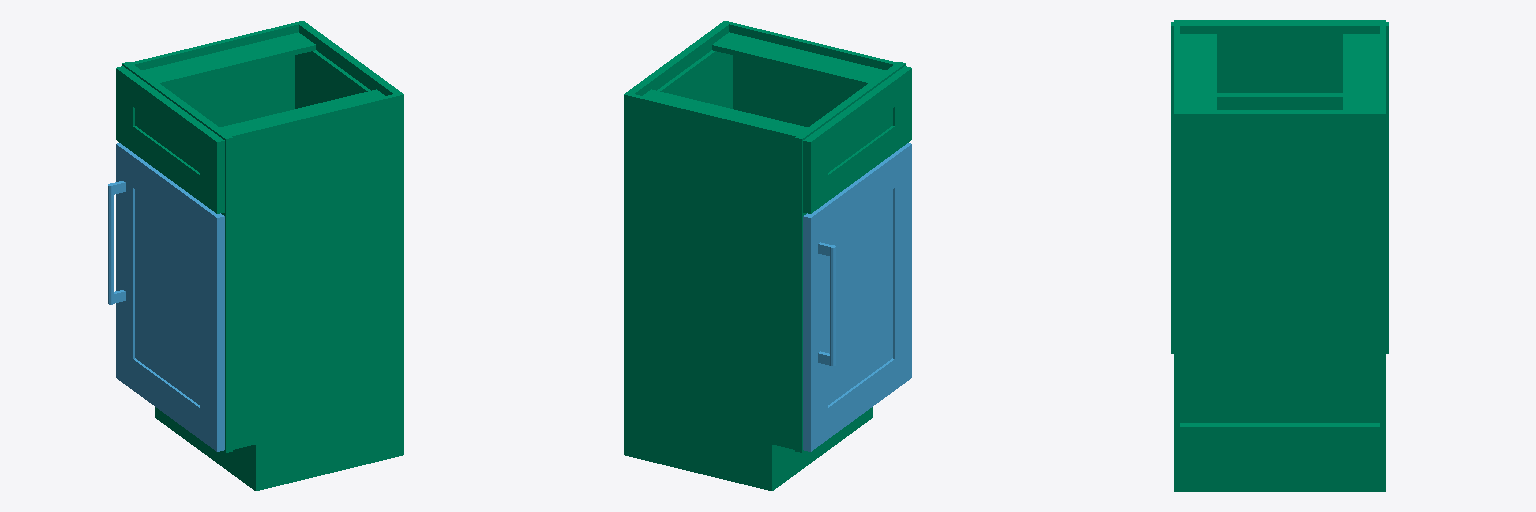
robot.urdf — partnet_3b577e2c7bbb8ca4c59350d819542ec7:
<?xml version="1.0" ?>
<robot name="partnet_3b577e2c7bbb8ca4c59350d819542ec7">
	<link name="base"/>
	<link name="link_0">
		<visual name="cabinet_door_surface-7">
			<origin xyz="-0.41510443709692785 -0.4317759871482849 -0.4041873159196629"/>
			<geometry>
				<mesh filename="textured_objs/original-36.obj"/>
			</geometry>
		</visual>
		<visual name="cabinet_door_surface-7">
			<origin xyz="-0.41510443709692785 -0.4317759871482849 -0.4041873159196629"/>
			<geometry>
				<mesh filename="textured_objs/original-33.obj"/>
			</geometry>
		</visual>
		<visual name="cabinet_door_surface-7">
			<origin xyz="-0.41510443709692785 -0.4317759871482849 -0.4041873159196629"/>
			<geometry>
				<mesh filename="textured_objs/original-31.obj"/>
			</geometry>
		</visual>
		<visual name="cabinet_door_surface-7">
			<origin xyz="-0.41510443709692785 -0.4317759871482849 -0.4041873159196629"/>
			<geometry>
				<mesh filename="textured_objs/original-32.obj"/>
			</geometry>
		</visual>
		<visual name="cabinet_door_surface-7">
			<origin xyz="-0.41510443709692785 -0.4317759871482849 -0.4041873159196629"/>
			<geometry>
				<mesh filename="textured_objs/original-34.obj"/>
			</geometry>
		</visual>
		<visual name="cabinet_door_surface-7">
			<origin xyz="-0.41510443709692785 -0.4317759871482849 -0.4041873159196629"/>
			<geometry>
				<mesh filename="textured_objs/original-37.obj"/>
			</geometry>
		</visual>
		<visual name="handle-8">
			<origin xyz="-0.41510443709692785 -0.4317759871482849 -0.4041873159196629"/>
			<geometry>
				<mesh filename="textured_objs/original-39.obj"/>
			</geometry>
		</visual>
		<visual name="handle-8">
			<origin xyz="-0.41510443709692785 -0.4317759871482849 -0.4041873159196629"/>
			<geometry>
				<mesh filename="textured_objs/original-41.obj"/>
			</geometry>
		</visual>
		<visual name="handle-8">
			<origin xyz="-0.41510443709692785 -0.4317759871482849 -0.4041873159196629"/>
			<geometry>
				<mesh filename="textured_objs/original-40.obj"/>
			</geometry>
		</visual>
		<collision>
			<origin xyz="-0.41510443709692785 -0.4317759871482849 -0.4041873159196629"/>
			<geometry>
				<mesh filename="textured_objs/original-36.obj"/>
			</geometry>
		</collision>
		<collision>
			<origin xyz="-0.41510443709692785 -0.4317759871482849 -0.4041873159196629"/>
			<geometry>
				<mesh filename="textured_objs/original-33.obj"/>
			</geometry>
		</collision>
		<collision>
			<origin xyz="-0.41510443709692785 -0.4317759871482849 -0.4041873159196629"/>
			<geometry>
				<mesh filename="textured_objs/original-31.obj"/>
			</geometry>
		</collision>
		<collision>
			<origin xyz="-0.41510443709692785 -0.4317759871482849 -0.4041873159196629"/>
			<geometry>
				<mesh filename="textured_objs/original-32.obj"/>
			</geometry>
		</collision>
		<collision>
			<origin xyz="-0.41510443709692785 -0.4317759871482849 -0.4041873159196629"/>
			<geometry>
				<mesh filename="textured_objs/original-34.obj"/>
			</geometry>
		</collision>
		<collision>
			<origin xyz="-0.41510443709692785 -0.4317759871482849 -0.4041873159196629"/>
			<geometry>
				<mesh filename="textured_objs/original-37.obj"/>
			</geometry>
		</collision>
		<collision>
			<origin xyz="-0.41510443709692785 -0.4317759871482849 -0.4041873159196629"/>
			<geometry>
				<mesh filename="textured_objs/original-39.obj"/>
			</geometry>
		</collision>
		<collision>
			<origin xyz="-0.41510443709692785 -0.4317759871482849 -0.4041873159196629"/>
			<geometry>
				<mesh filename="textured_objs/original-41.obj"/>
			</geometry>
		</collision>
		<collision>
			<origin xyz="-0.41510443709692785 -0.4317759871482849 -0.4041873159196629"/>
			<geometry>
				<mesh filename="textured_objs/original-40.obj"/>
			</geometry>
		</collision>
	</link>
	<joint name="joint_0" type="revolute">
		<origin xyz="0.41510443709692785 0.4317759871482849 0.4041873159196629"/>
		<axis xyz="0 1 0"/>
		<child link="link_0"/>
		<parent link="link_1"/>
		<limit lower="0.0" upper="1.7453292519943295"/>
	</joint>
	<link name="link_1">
		<visual name="drawer_front-45">
			<origin xyz="0 0 0"/>
			<geometry>
				<mesh filename="textured_objs/original-29.obj"/>
			</geometry>
		</visual>
		<visual name="drawer_front-45">
			<origin xyz="0 0 0"/>
			<geometry>
				<mesh filename="textured_objs/original-23.obj"/>
			</geometry>
		</visual>
		<visual name="drawer_front-45">
			<origin xyz="0 0 0"/>
			<geometry>
				<mesh filename="textured_objs/original-26.obj"/>
			</geometry>
		</visual>
		<visual name="drawer_front-45">
			<origin xyz="0 0 0"/>
			<geometry>
				<mesh filename="textured_objs/original-25.obj"/>
			</geometry>
		</visual>
		<visual name="drawer_front-45">
			<origin xyz="0 0 0"/>
			<geometry>
				<mesh filename="textured_objs/original-24.obj"/>
			</geometry>
		</visual>
		<visual name="drawer_front-45">
			<origin xyz="0 0 0"/>
			<geometry>
				<mesh filename="textured_objs/original-17.obj"/>
			</geometry>
		</visual>
		<visual name="drawer_front-45">
			<origin xyz="0 0 0"/>
			<geometry>
				<mesh filename="textured_objs/original-28.obj"/>
			</geometry>
		</visual>
		<visual name="drawer_front-45">
			<origin xyz="0 0 0"/>
			<geometry>
				<mesh filename="textured_objs/original-6.obj"/>
			</geometry>
		</visual>
		<visual name="back_panel-39">
			<origin xyz="0 0 0"/>
			<geometry>
				<mesh filename="textured_objs/original-42.obj"/>
			</geometry>
		</visual>
		<visual name="back_panel-39">
			<origin xyz="0 0 0"/>
			<geometry>
				<mesh filename="textured_objs/original-5.obj"/>
			</geometry>
		</visual>
		<visual name="bottom_panel-40">
			<origin xyz="0 0 0"/>
			<geometry>
				<mesh filename="textured_objs/original-2.obj"/>
			</geometry>
		</visual>
		<visual name="frame_horizontal_bar-46">
			<origin xyz="0 0 0"/>
			<geometry>
				<mesh filename="textured_objs/original-8.obj"/>
			</geometry>
		</visual>
		<visual name="frame_horizontal_bar-47">
			<origin xyz="0 0 0"/>
			<geometry>
				<mesh filename="textured_objs/original-4.obj"/>
			</geometry>
		</visual>
		<visual name="frame_horizontal_bar-48">
			<origin xyz="0 0 0"/>
			<geometry>
				<mesh filename="textured_objs/original-21.obj"/>
			</geometry>
		</visual>
		<visual name="frame_horizontal_bar-49">
			<origin xyz="0 0 0"/>
			<geometry>
				<mesh filename="textured_objs/original-20.obj"/>
			</geometry>
		</visual>
		<visual name="vertical_side_panel-50">
			<origin xyz="0 0 0"/>
			<geometry>
				<mesh filename="textured_objs/original-11.obj"/>
			</geometry>
		</visual>
		<visual name="vertical_side_panel-50">
			<origin xyz="0 0 0"/>
			<geometry>
				<mesh filename="textured_objs/original-10.obj"/>
			</geometry>
		</visual>
		<visual name="vertical_side_panel-51">
			<origin xyz="0 0 0"/>
			<geometry>
				<mesh filename="textured_objs/original-15.obj"/>
			</geometry>
		</visual>
		<visual name="vertical_side_panel-51">
			<origin xyz="0 0 0"/>
			<geometry>
				<mesh filename="textured_objs/original-14.obj"/>
			</geometry>
		</visual>
		<visual name="frame_vertical_bar-52">
			<origin xyz="0 0 0"/>
			<geometry>
				<mesh filename="textured_objs/original-7.obj"/>
			</geometry>
		</visual>
		<visual name="frame_vertical_bar-53">
			<origin xyz="0 0 0"/>
			<geometry>
				<mesh filename="textured_objs/original-3.obj"/>
			</geometry>
		</visual>
		<visual name="base_side_panel-10">
			<origin xyz="0 0 0"/>
			<geometry>
				<mesh filename="textured_objs/original-12.obj"/>
			</geometry>
		</visual>
		<visual name="base_side_panel-11">
			<origin xyz="0 0 0"/>
			<geometry>
				<mesh filename="textured_objs/original-18.obj"/>
			</geometry>
		</visual>
		<visual name="base_side_panel-12">
			<origin xyz="0 0 0"/>
			<geometry>
				<mesh filename="textured_objs/original-16.obj"/>
			</geometry>
		</visual>
		<visual name="base_side_panel-13">
			<origin xyz="0 0 0"/>
			<geometry>
				<mesh filename="textured_objs/original-19.obj"/>
			</geometry>
		</visual>
		<collision>
			<origin xyz="0 0 0"/>
			<geometry>
				<mesh filename="textured_objs/original-29.obj"/>
			</geometry>
		</collision>
		<collision>
			<origin xyz="0 0 0"/>
			<geometry>
				<mesh filename="textured_objs/original-23.obj"/>
			</geometry>
		</collision>
		<collision>
			<origin xyz="0 0 0"/>
			<geometry>
				<mesh filename="textured_objs/original-26.obj"/>
			</geometry>
		</collision>
		<collision>
			<origin xyz="0 0 0"/>
			<geometry>
				<mesh filename="textured_objs/original-25.obj"/>
			</geometry>
		</collision>
		<collision>
			<origin xyz="0 0 0"/>
			<geometry>
				<mesh filename="textured_objs/original-24.obj"/>
			</geometry>
		</collision>
		<collision>
			<origin xyz="0 0 0"/>
			<geometry>
				<mesh filename="textured_objs/original-17.obj"/>
			</geometry>
		</collision>
		<collision>
			<origin xyz="0 0 0"/>
			<geometry>
				<mesh filename="textured_objs/original-28.obj"/>
			</geometry>
		</collision>
		<collision>
			<origin xyz="0 0 0"/>
			<geometry>
				<mesh filename="textured_objs/original-6.obj"/>
			</geometry>
		</collision>
		<collision>
			<origin xyz="0 0 0"/>
			<geometry>
				<mesh filename="textured_objs/original-42.obj"/>
			</geometry>
		</collision>
		<collision>
			<origin xyz="0 0 0"/>
			<geometry>
				<mesh filename="textured_objs/original-5.obj"/>
			</geometry>
		</collision>
		<collision>
			<origin xyz="0 0 0"/>
			<geometry>
				<mesh filename="textured_objs/original-2.obj"/>
			</geometry>
		</collision>
		<collision>
			<origin xyz="0 0 0"/>
			<geometry>
				<mesh filename="textured_objs/original-8.obj"/>
			</geometry>
		</collision>
		<collision>
			<origin xyz="0 0 0"/>
			<geometry>
				<mesh filename="textured_objs/original-4.obj"/>
			</geometry>
		</collision>
		<collision>
			<origin xyz="0 0 0"/>
			<geometry>
				<mesh filename="textured_objs/original-21.obj"/>
			</geometry>
		</collision>
		<collision>
			<origin xyz="0 0 0"/>
			<geometry>
				<mesh filename="textured_objs/original-20.obj"/>
			</geometry>
		</collision>
		<collision>
			<origin xyz="0 0 0"/>
			<geometry>
				<mesh filename="textured_objs/original-11.obj"/>
			</geometry>
		</collision>
		<collision>
			<origin xyz="0 0 0"/>
			<geometry>
				<mesh filename="textured_objs/original-10.obj"/>
			</geometry>
		</collision>
		<collision>
			<origin xyz="0 0 0"/>
			<geometry>
				<mesh filename="textured_objs/original-15.obj"/>
			</geometry>
		</collision>
		<collision>
			<origin xyz="0 0 0"/>
			<geometry>
				<mesh filename="textured_objs/original-14.obj"/>
			</geometry>
		</collision>
		<collision>
			<origin xyz="0 0 0"/>
			<geometry>
				<mesh filename="textured_objs/original-7.obj"/>
			</geometry>
		</collision>
		<collision>
			<origin xyz="0 0 0"/>
			<geometry>
				<mesh filename="textured_objs/original-3.obj"/>
			</geometry>
		</collision>
		<collision>
			<origin xyz="0 0 0"/>
			<geometry>
				<mesh filename="textured_objs/original-12.obj"/>
			</geometry>
		</collision>
		<collision>
			<origin xyz="0 0 0"/>
			<geometry>
				<mesh filename="textured_objs/original-18.obj"/>
			</geometry>
		</collision>
		<collision>
			<origin xyz="0 0 0"/>
			<geometry>
				<mesh filename="textured_objs/original-16.obj"/>
			</geometry>
		</collision>
		<collision>
			<origin xyz="0 0 0"/>
			<geometry>
				<mesh filename="textured_objs/original-19.obj"/>
			</geometry>
		</collision>
	</link>
	<joint name="joint_1" type="fixed">
		<origin rpy="1.570796326794897 0 -1.570796326794897" xyz="0 0 0"/>
		<child link="link_1"/>
		<parent link="base"/>
	</joint>
</robot>

--- Facts derived from the render (not from the file) ---
The picture shows the robot from 3 angles, left to right: view 1: azimuth 30°, elevation 25°; view 2: azimuth 150°, elevation 25°; view 3: azimuth 270°, elevation 25°; orthographic projection.
Model partnet_3b577e2c7bbb8ca4c59350d819542ec7 with 3 links and 2 joints (1 revolute, 1 fixed), rooted at base, posed every joint at zero.
Visible links, largest first — view 1: link_1, link_0; view 2: link_1, link_0; view 3: link_1.
Link boxes in pixels (box(x1,y1,x2,y2)): link_1: box(116, 21, 403, 490); link_0: box(108, 143, 224, 451); link_1: box(624, 21, 911, 490); link_0: box(803, 143, 911, 451); link_1: box(1171, 20, 1388, 491).
Size in the robot's own frame: 0.9433 by 0.8333 by 1.6 metres.
Meshes: 34 distinct files referenced, 34 mesh visuals loaded (34 OBJ).
